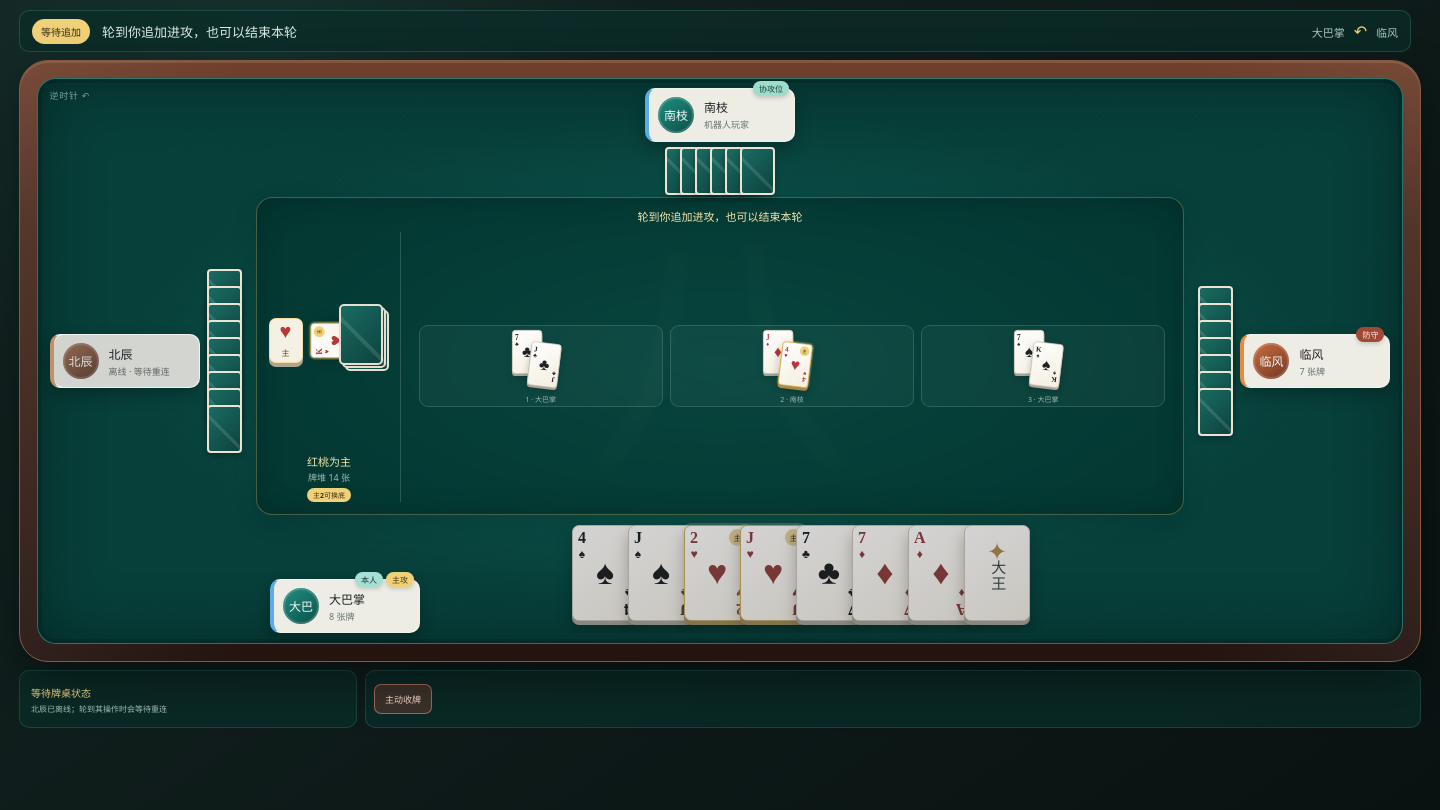
mounted game interaction lifecycle › times out an ACK using an injectable timeout and ignores its late resolution
The width and height of the screenshot is (1440, 810).
Click the button "主动收牌" at x=403, y=699, box [374,684,432,714]
Wait 100 ms
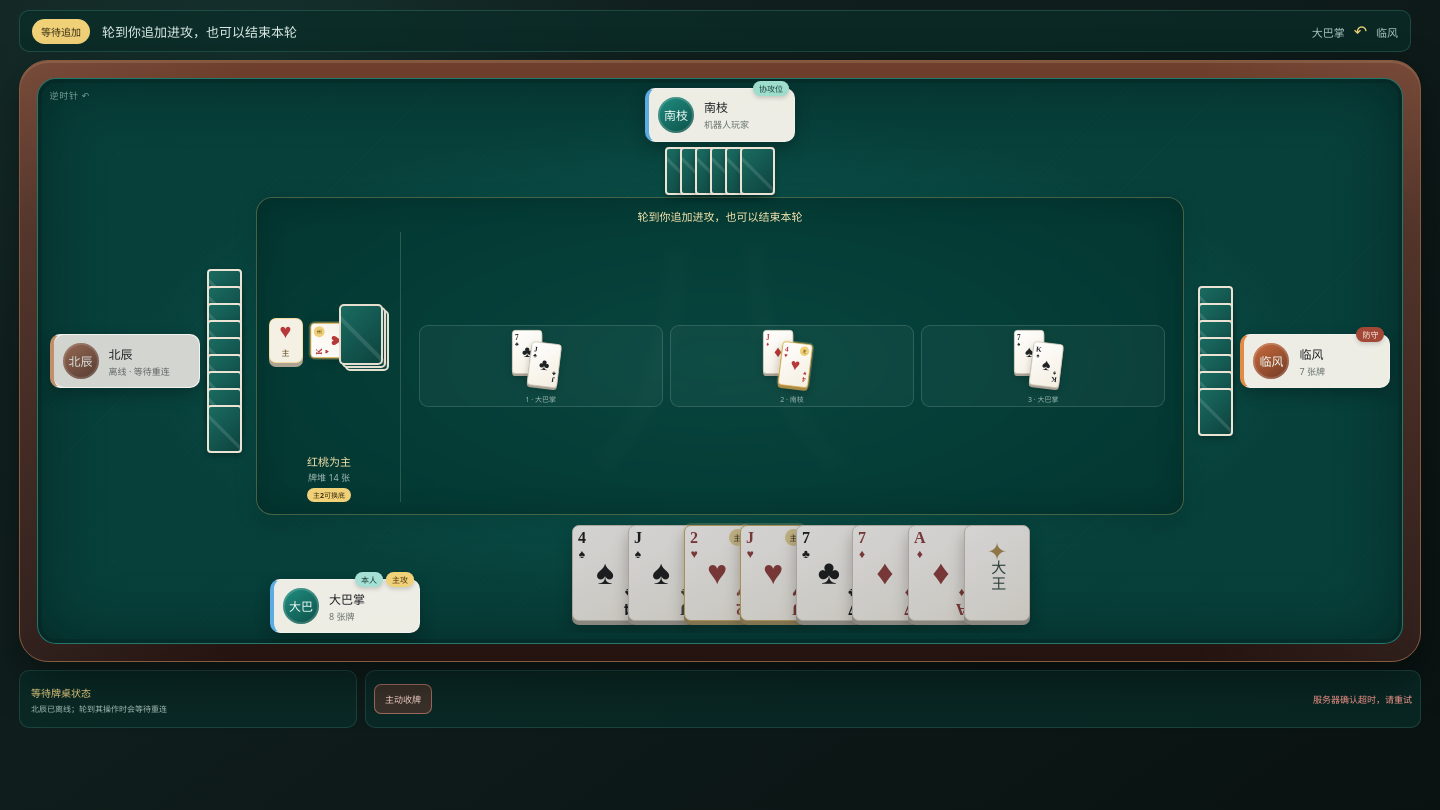
Now the message "服务器确认超时，请重试" is shown, box [1302,692,1412,706]
